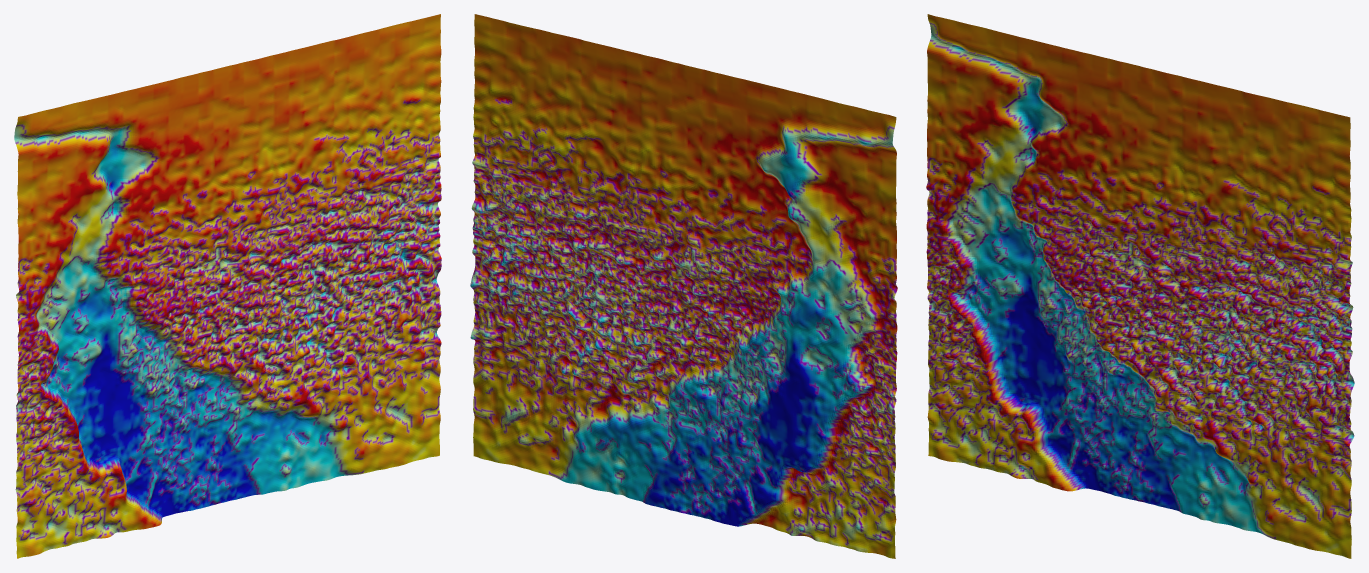
3 renders of one model, left to right at view 1: azimuth 30°, elevation 25°; view 2: azimuth 150°, elevation 25°; view 3: azimuth 330°, elevation 25°, orthographic.
Parts seen in each view (by area): view 1: world; view 2: world; view 3: world.
Part boxes in pixels (bbox=[...]): world: bbox=[14, 14, 441, 558]; world: bbox=[470, 14, 897, 558]; world: bbox=[926, 14, 1354, 558].
Size of the model in its own units: 299 by 299 by 12.
